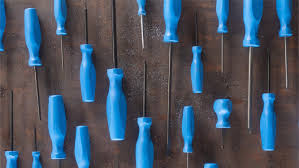Screwdriver: (106, 0, 126, 140), (163, 0, 180, 151), (243, 0, 262, 132), (135, 61, 153, 167), (24, 8, 41, 119), (260, 48, 275, 150), (80, 0, 95, 101), (276, 0, 292, 87), (48, 95, 66, 158), (190, 12, 203, 92), (5, 91, 18, 167), (216, 0, 228, 72), (54, 0, 66, 69), (74, 126, 89, 167), (136, 0, 145, 48), (32, 128, 41, 167), (34, 67, 40, 119), (142, 61, 146, 116)
